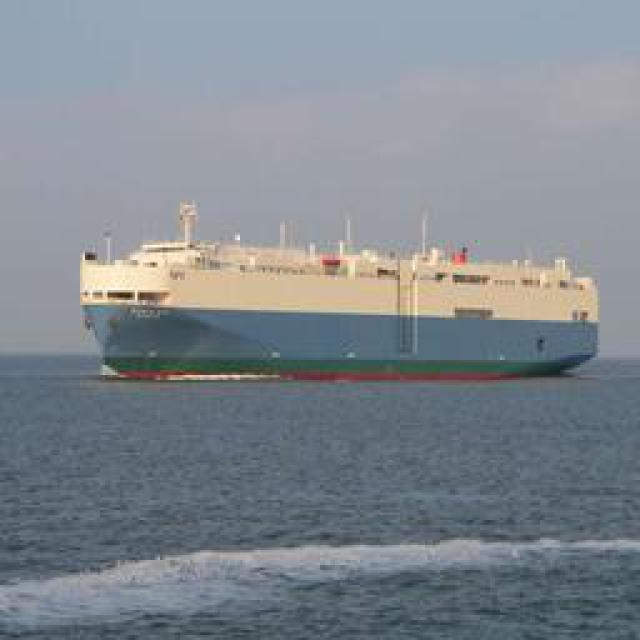Ship: (79, 205, 602, 380)
